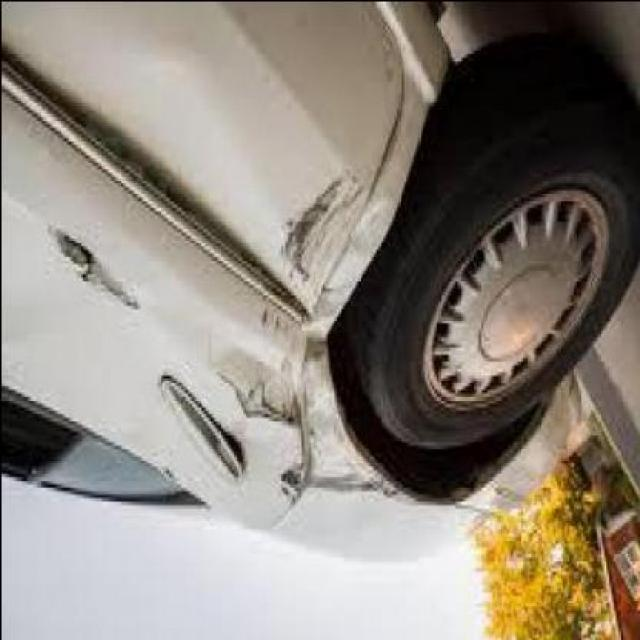damage: (41, 145, 412, 521)
